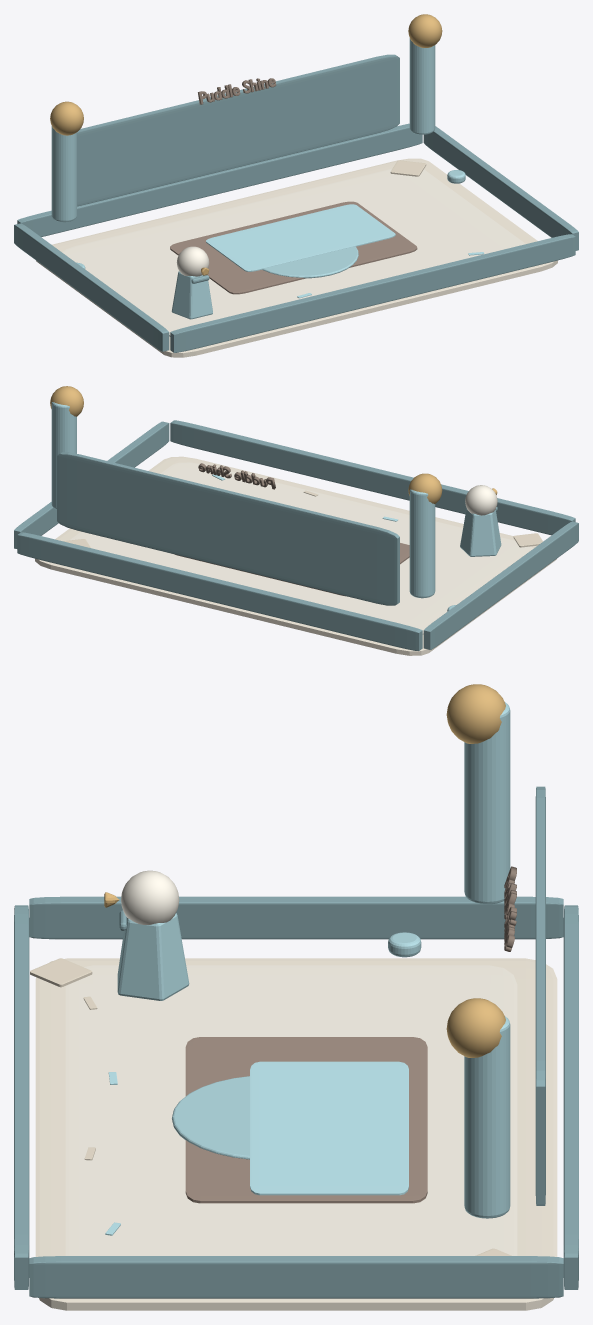
File: 13_water.glb
3 views of the same model, one above another, from view 1: azimuth 30°, elevation 25°; view 2: azimuth 150°, elevation 25°; view 3: azimuth 270°, elevation 25° (orthographic). The views are drawn at different scales.
Visible parts, largest first — view 1: BackCard, FloorLayerInset, SouthRail-col, NorthRail-col, PaperFloor-col, StageMatHighlight, WestRail-col, StageMat, EastRail-col, PaperLantern.001, FpeRushPlayer, PaperLantern (+5 smaller); view 2: BackCard, FloorLayerInset, NorthRail-col, SouthRail-col, PaperFloor-col, WestRail-col, PaperLantern, FpeRushPlayer, EastRail-col, PaperLantern.001, TitleLabel, LanternGlow.001 (+2 smaller); view 3: FloorLayerInset, PaperFloor-col, EastRail-col, StageMatHighlight, WestRail-col, StageMat, PaperLantern.001, PaperLantern, FpeRushPlayer, NorthRail-col, SouthRail-col, PuddleShine (+5 smaller).
Boxes of the visible parts, left/top/right/bottom form: BackCard: left=77, top=54, right=399, bottom=206; FloorLayerInset: left=62, top=168, right=525, bottom=336; SouthRail-col: left=170, top=234, right=575, bottom=352; NorthRail-col: left=17, top=123, right=422, bottom=236; PaperFloor-col: left=36, top=158, right=557, bottom=357; StageMatHighlight: left=206, top=204, right=395, bottom=271; WestRail-col: left=14, top=223, right=169, bottom=351; StageMat: left=170, top=201, right=417, bottom=294; EastRail-col: left=423, top=126, right=578, bottom=250; PaperLantern.001: left=409, top=38, right=435, bottom=134; FpeRushPlayer: left=171, top=246, right=212, bottom=319; PaperLantern: left=51, top=126, right=76, bottom=222; BackCard: left=57, top=452, right=399, bottom=605; FloorLayerInset: left=70, top=462, right=533, bottom=634; NorthRail-col: left=17, top=532, right=422, bottom=650; SouthRail-col: left=170, top=420, right=575, bottom=535; PaperFloor-col: left=35, top=456, right=556, bottom=655; WestRail-col: left=423, top=521, right=578, bottom=649; PaperLantern: left=409, top=489, right=435, bottom=598; FpeRushPlayer: left=460, top=485, right=501, bottom=556; EastRail-col: left=14, top=421, right=169, bottom=548; PaperLantern.001: left=51, top=402, right=76, bottom=509; TitleLabel: left=198, top=463, right=275, bottom=489; LanternGlow.001: left=50, top=386, right=83, bottom=416; FloorLayerInset: left=65, top=965, right=517, bottom=1255; PaperFloor-col: left=35, top=958, right=557, bottom=1310; EastRail-col: left=29, top=1256, right=563, bottom=1298; StageMatHighlight: left=250, top=1061, right=408, bottom=1195; WestRail-col: left=29, top=896, right=563, bottom=939; StageMat: left=185, top=1037, right=427, bottom=1203; PaperLantern.001: left=464, top=1016, right=510, bottom=1218; PaperLantern: left=464, top=702, right=510, bottom=904; FpeRushPlayer: left=104, top=870, right=189, bottom=1000; NorthRail-col: left=563, top=905, right=578, bottom=1289; SouthRail-col: left=14, top=905, right=29, bottom=1289; PuddleShine: left=172, top=1076, right=249, bottom=1159.
Size of the model in its own units: 6.8 by 2.56 by 4.44.
